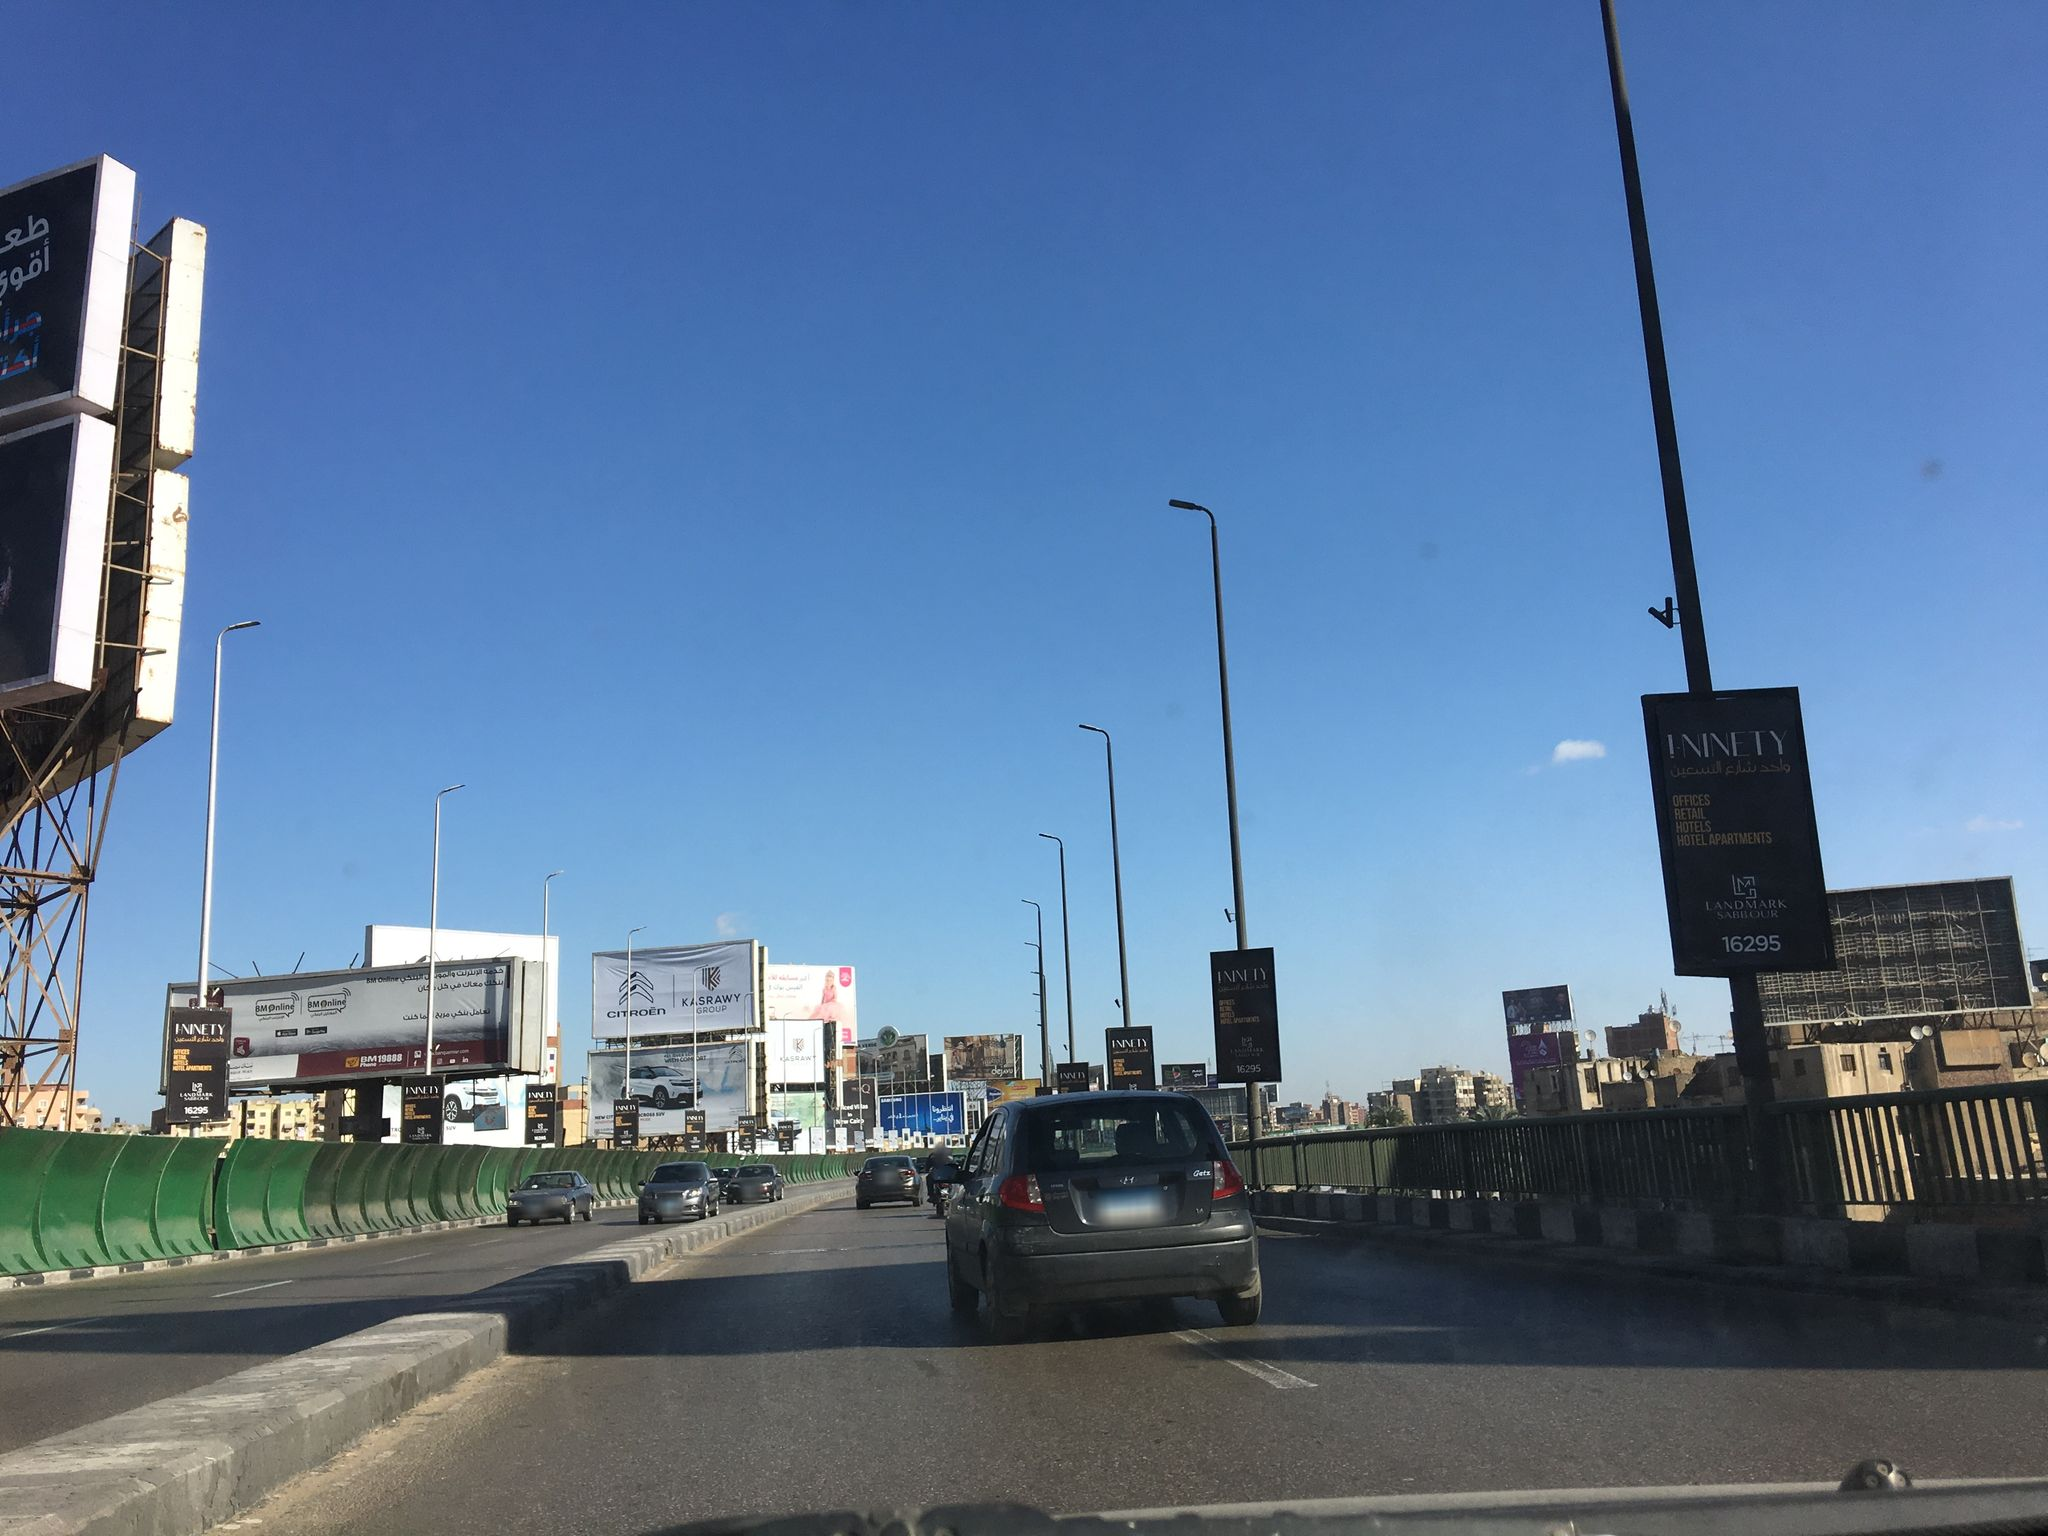car: (939, 1084, 1264, 1326), (635, 1160, 719, 1225), (506, 1170, 595, 1226), (851, 1154, 924, 1208), (726, 1163, 784, 1204), (710, 1167, 740, 1200)
motorcycle: (919, 1168, 956, 1217)
